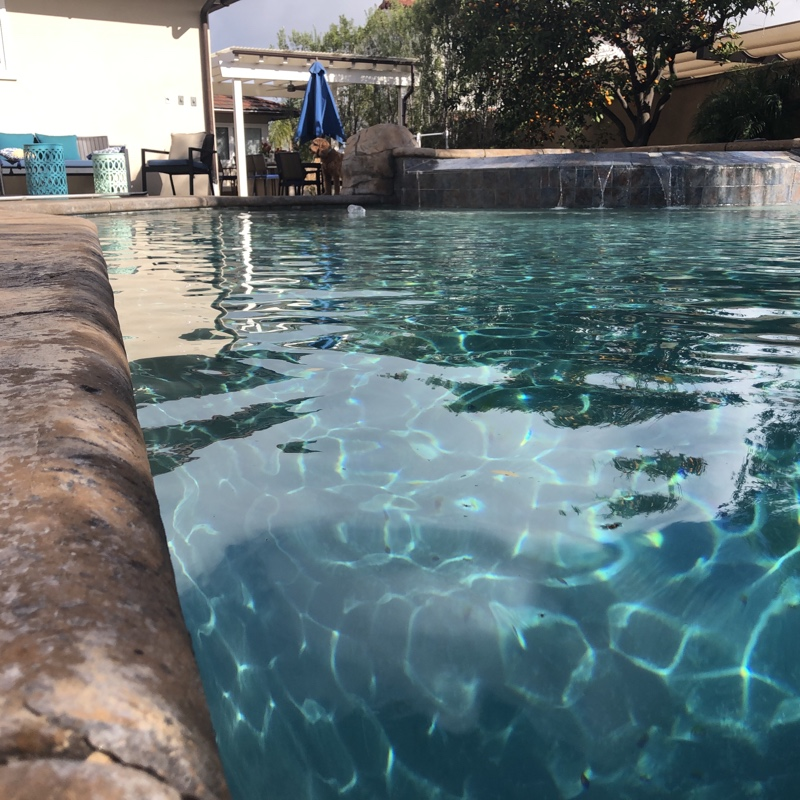Plastic Bottle: (344, 200, 368, 220)
